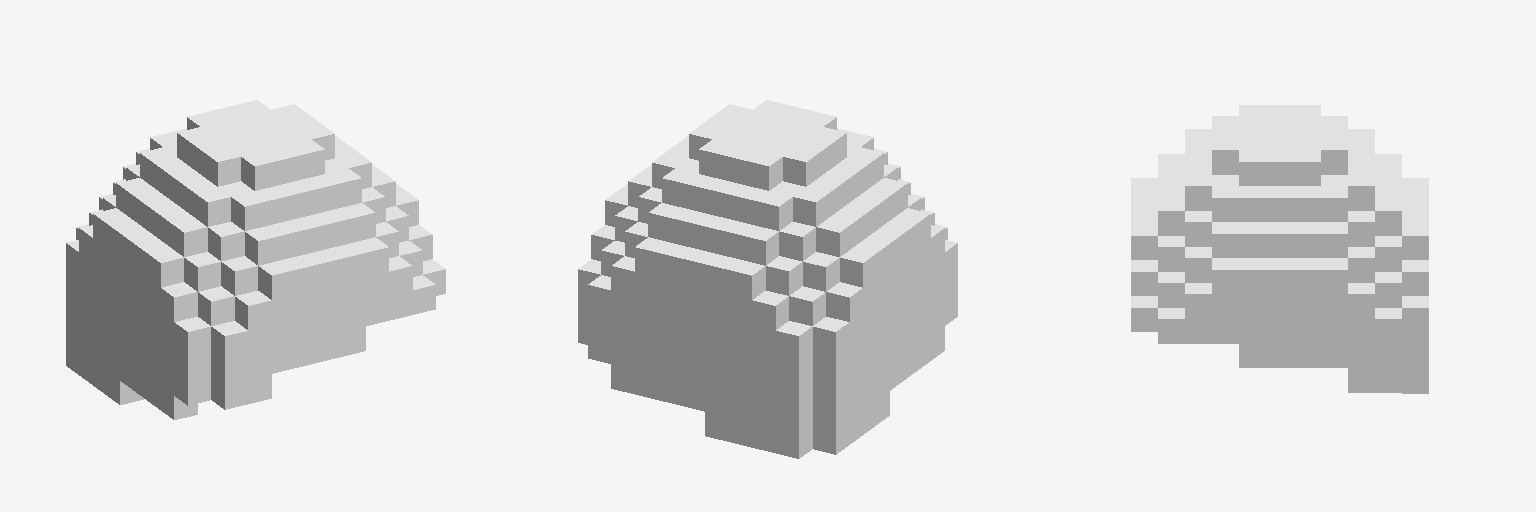
The model's file is egg_spotted_tophalf.obj.
3 views of the same model, side by side, from view 1: azimuth 30°, elevation 25°; view 2: azimuth 150°, elevation 25°; view 3: azimuth 270°, elevation 25° (orthographic).
Visible parts, largest first — view 1: egg_spotted_bottomhalf.001_egg_spotted_bottomhalf.003; view 2: egg_spotted_bottomhalf.001_egg_spotted_bottomhalf.003; view 3: egg_spotted_bottomhalf.001_egg_spotted_bottomhalf.003.
Boxes of the visible parts, <box> form: egg_spotted_bottomhalf.001_egg_spotted_bottomhalf.003: <box>66,100,445,419</box>; egg_spotted_bottomhalf.001_egg_spotted_bottomhalf.003: <box>578,100,957,458</box>; egg_spotted_bottomhalf.001_egg_spotted_bottomhalf.003: <box>1131,105,1428,393</box>.
Bounding box in the file's own units: 1.1 × 1 × 1.1.